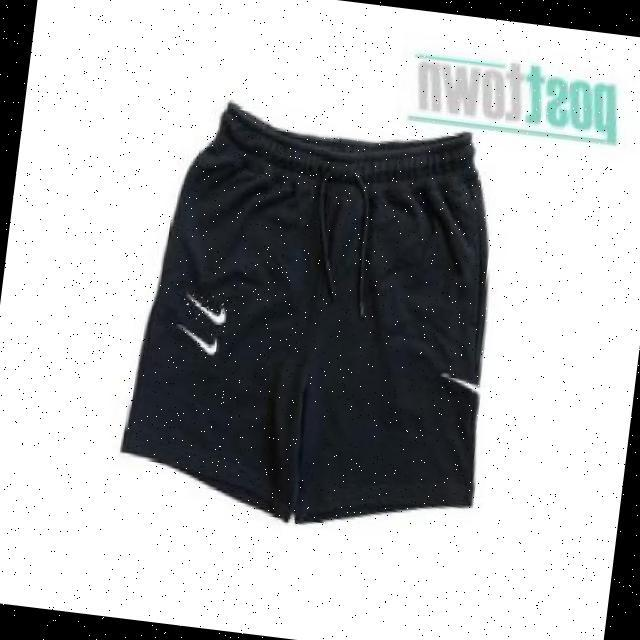Nike: (180, 289, 231, 323), (174, 322, 223, 353)
